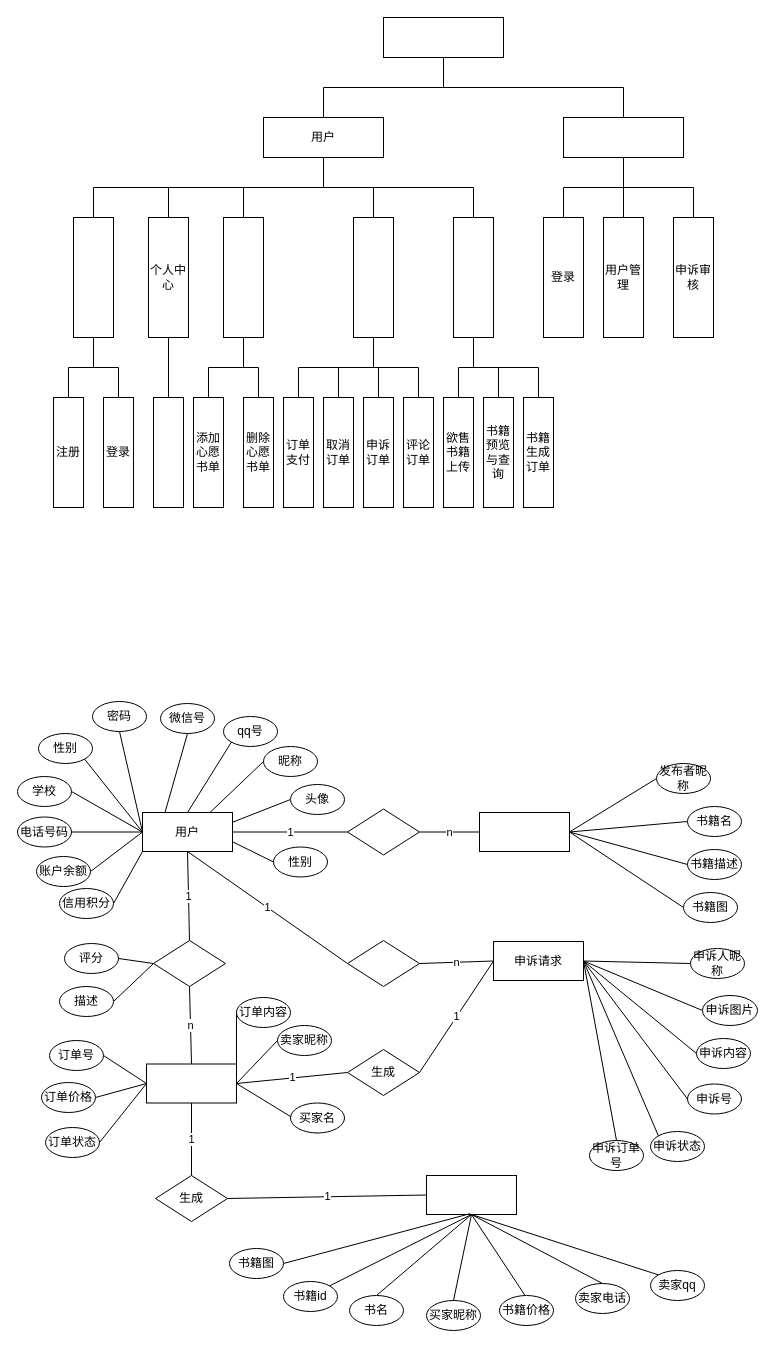
The diagram is 775 pixels wide and 1348 high, and some of its shapes have lost their labels. Here are the shapes that lost their labels. From the top down, the centre of each, then its label:
At pixel 443 37: "二手书交易系统".
At pixel 623 137: "管理员".
At pixel 93 277: "登陆注册".
At pixel 243 277: "心愿书单管理".
At pixel 373 277: "订单管理".
At pixel 473 277: "书籍管理".
At pixel 168 452: "查看个人信息".
At pixel 383 831: "管理".
At pixel 524 832: "心愿书籍".
At pixel 189 963: "评价".
At pixel 383 963: "表达".
At pixel 191 1083: "订单".
At pixel 471 1194: "书籍".
